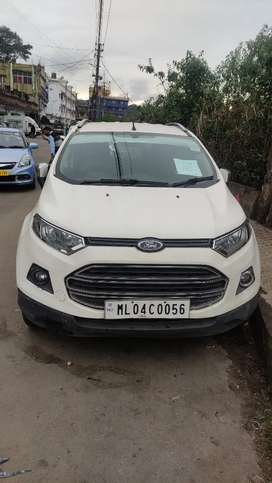ML04C0056: (104, 298, 188, 319)
